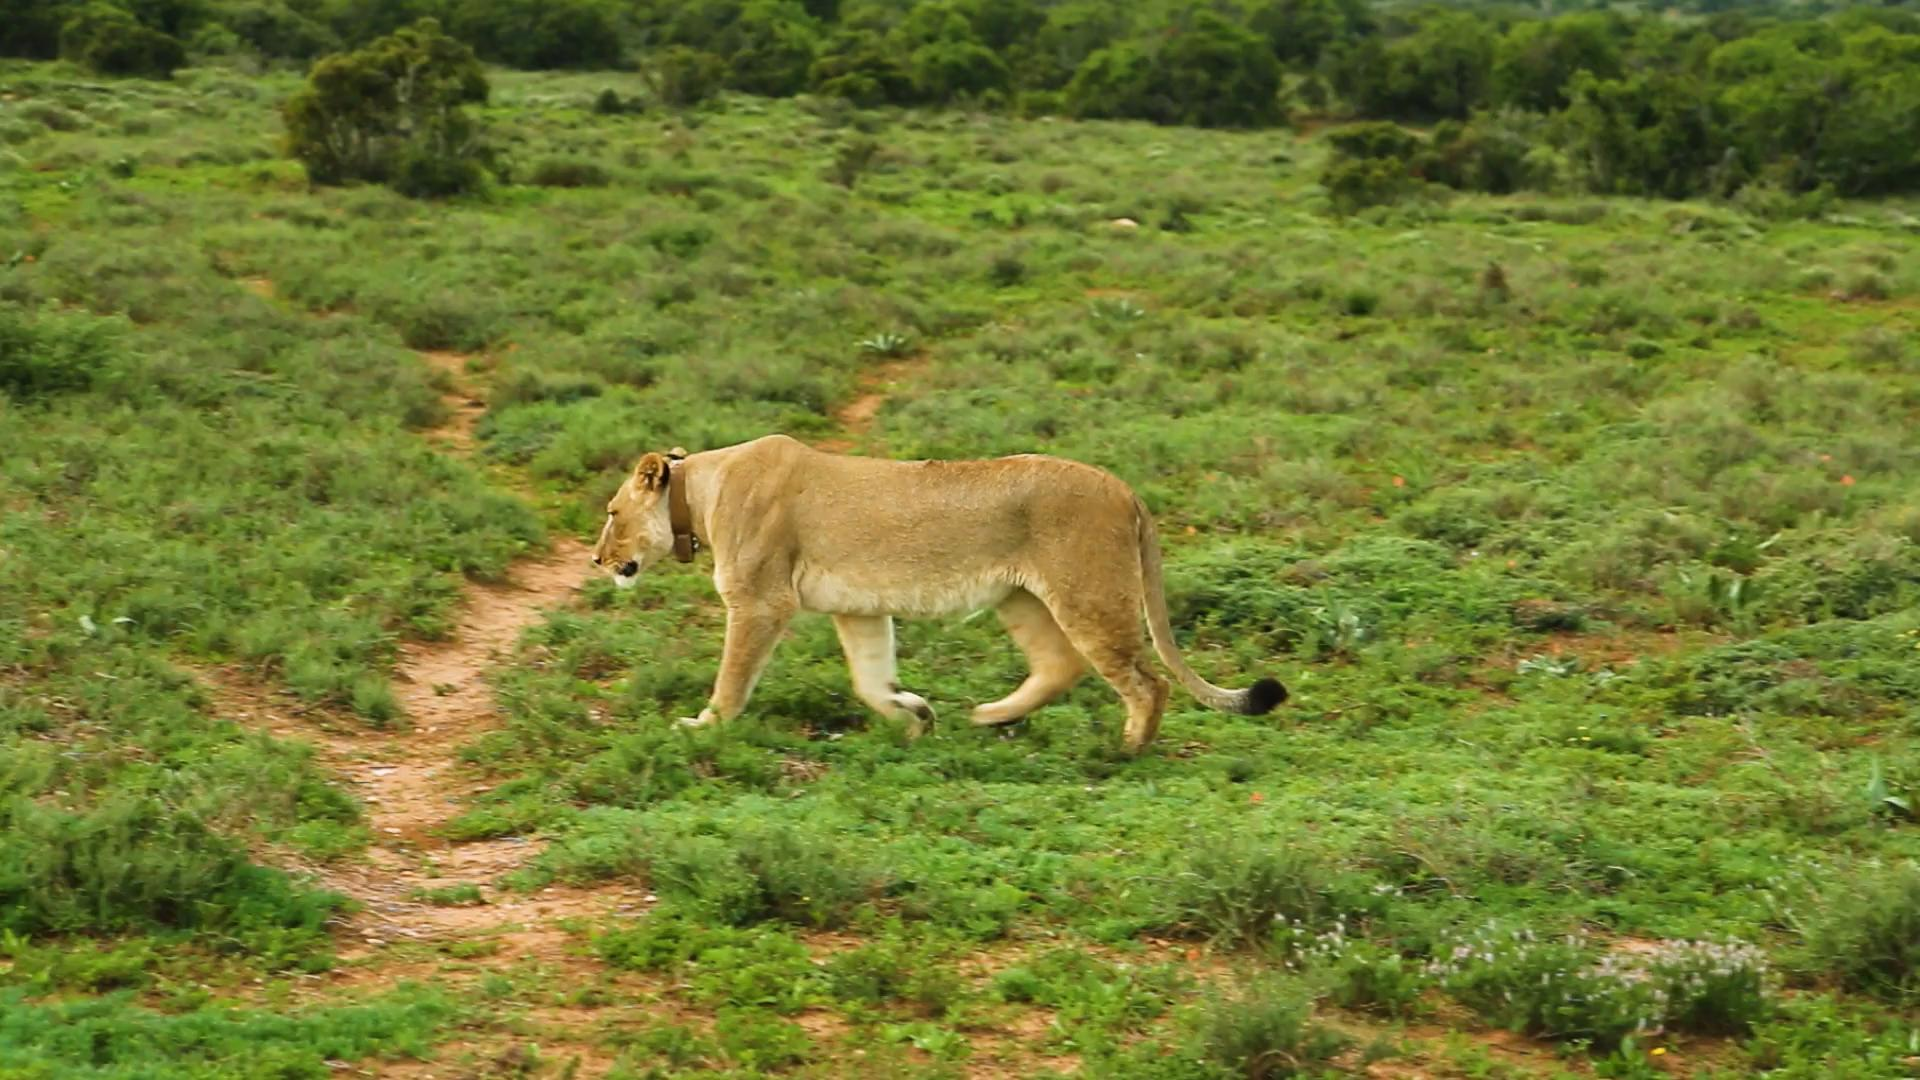lions: (575, 421, 1514, 782)
